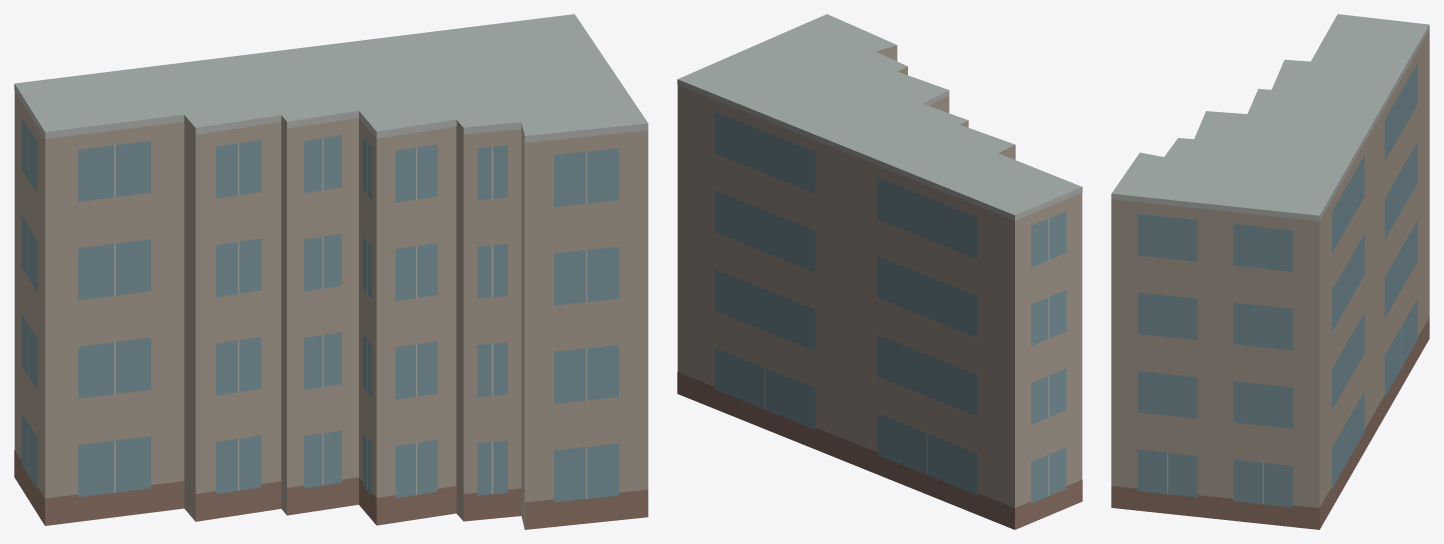
Rendered from survey-upis-32820607.glb.
The picture shows the model from 3 angles, left to right: view 1: azimuth 30°, elevation 25°; view 2: azimuth 150°, elevation 25°; view 3: azimuth 270°, elevation 25°; orthographic projection. The views are drawn at different scales.
Parts seen in each view (by area): view 1: survey-upis-32820607.tmp; view 2: survey-upis-32820607.tmp; view 3: survey-upis-32820607.tmp.
Boxes of the visible parts, box(x1,y1,x2,y2) form: survey-upis-32820607.tmp: box(14, 14, 648, 529); survey-upis-32820607.tmp: box(677, 14, 1082, 529); survey-upis-32820607.tmp: box(1111, 14, 1429, 529).
Size of the model in its own units: 19.16 by 13.9 by 12.77.
